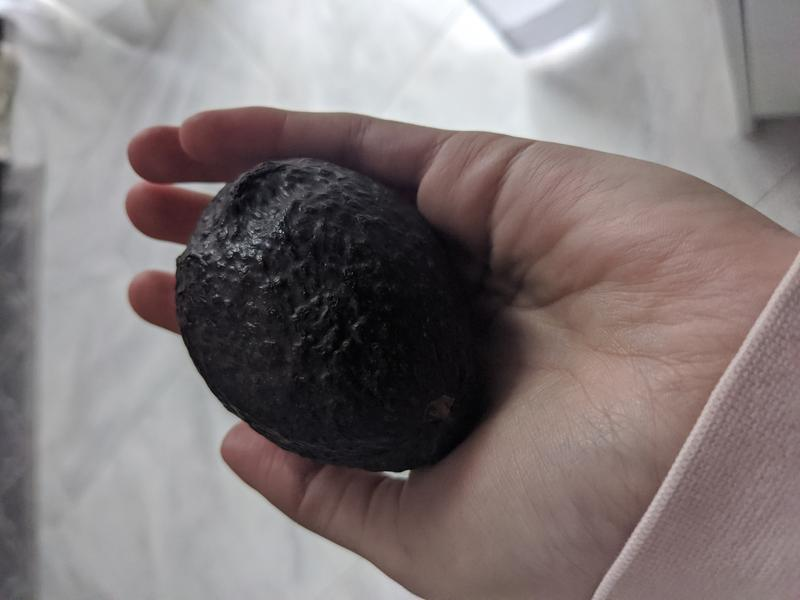avocado: (177, 158, 490, 470)
